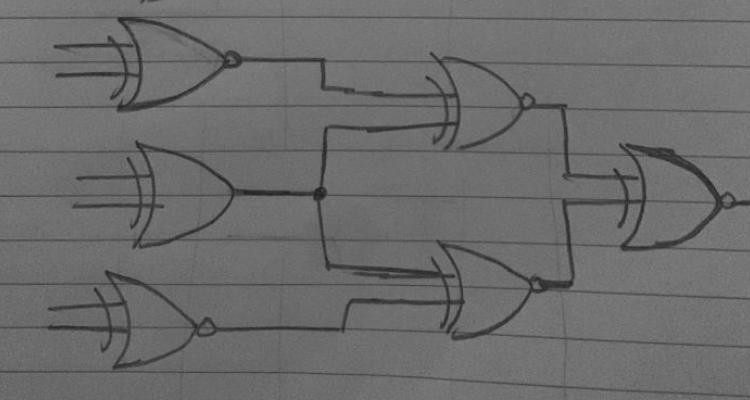XNOR: (605, 121, 741, 266), (411, 31, 539, 166), (416, 229, 557, 348), (99, 4, 243, 120), (85, 264, 225, 378)
XOR: (118, 129, 244, 255)
